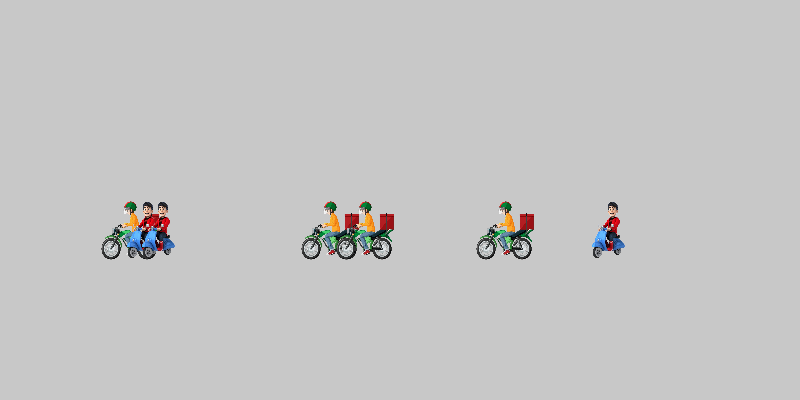helmet: (100, 200, 160, 260), (300, 200, 360, 260), (335, 200, 395, 260), (475, 200, 535, 260)
no_helmet: (115, 200, 175, 260), (130, 200, 190, 260), (580, 200, 640, 260)
